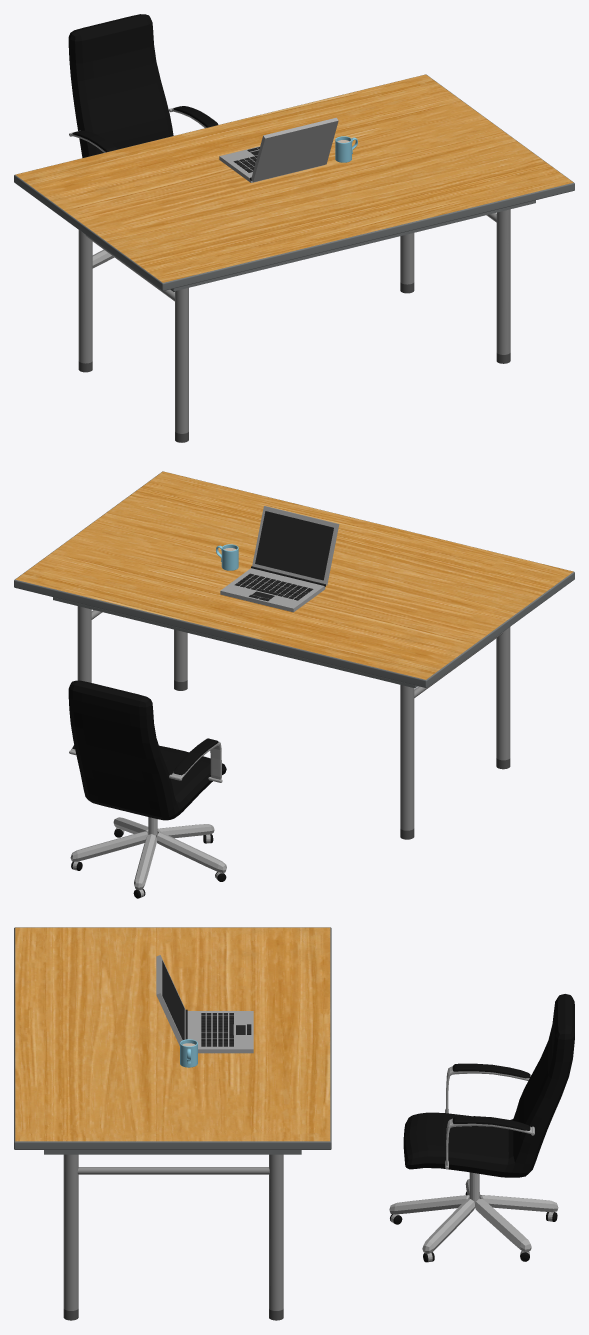
Rendered from Table_everything.glb.
The picture shows the model from 3 angles, top to bottom: view 1: azimuth 30°, elevation 25°; view 2: azimuth 150°, elevation 25°; view 3: azimuth 270°, elevation 25°; orthographic projection. The views are drawn at different scales.
Parts seen in each view (by area): view 1: Top, Chair, Legs, Edge, Border, TopBase, Cube.001_Material_0, LegsEnd; view 2: Top, Chair, Legs, Edge, Screen, Cube.001_Material_0, Cube.001_Material.001_0, TopBase, Border; view 3: Top, Chair, Legs, Edge, Cube.001_Material_0, Cube.001_Material.001_0, TopBase, Screen, Border.
Boxes of the visible parts, x1,y1,x2,y2 form: Top: (15,74,573,282); Chair: (68,14,218,292); Legs: (78,209,510,433); Edge: (14,74,574,290); Border: (251,117,338,182); TopBase: (171,200,535,291); Cube.001_Material_0: (219,146,324,182); LegsEnd: (78,282,510,442); Top: (15,471,573,679); Chair: (68,680,226,898); Legs: (77,606,510,830); Edge: (14,471,574,687); Screen: (255,511,333,580); Cube.001_Material_0: (220,568,325,612); Cube.001_Material.001_0: (235,566,325,601); TopBase: (53,597,417,688); Border: (252,506,339,585); Top: (15,927,330,1141); Chair: (389,994,574,1262); Legs: (63,1154,283,1310); Edge: (14,927,331,1149); Cube.001_Material_0: (187,1011,253,1053); Cube.001_Material.001_0: (185,1009,251,1046); TopBase: (44,1150,301,1154); Screen: (162,960,184,1039); Border: (156,955,185,1045).
Size of the model in its own units: 2.13 by 1.2 by 2.35.
Materials: 11 (1 with a texture image).
